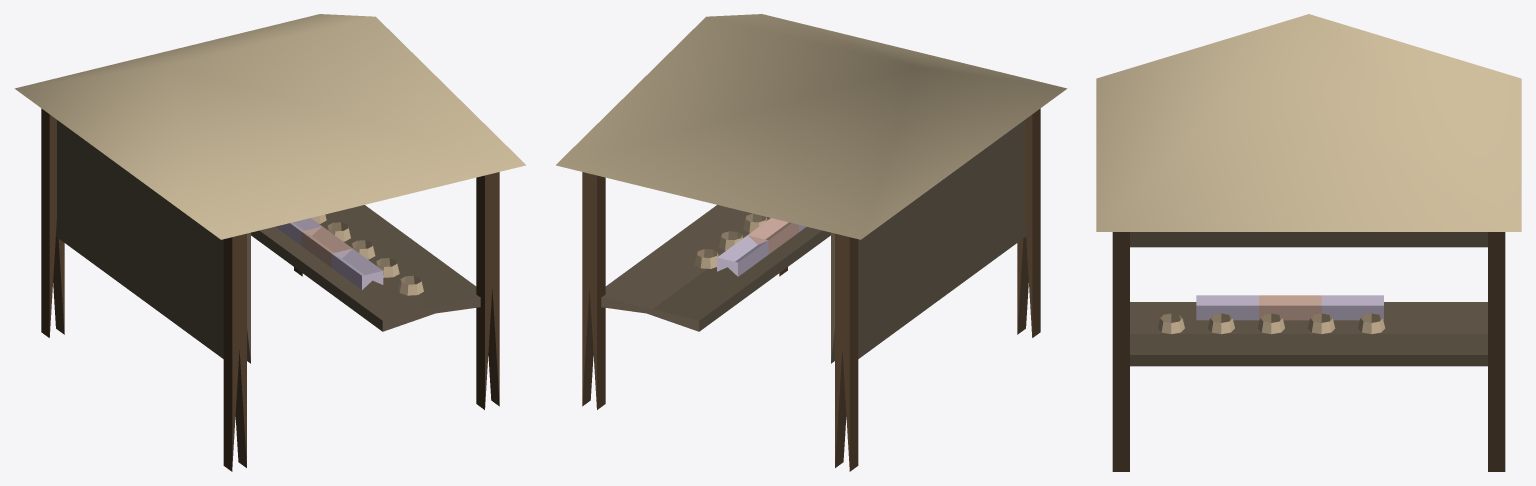
The model's file is fv_market_stall_a.glb.
3 views of the same model, side by side, from view 1: azimuth 30°, elevation 25°; view 2: azimuth 150°, elevation 25°; view 3: azimuth 270°, elevation 25° (orthographic). The views are drawn at different scales.
Parts seen in each view (by area): view 1: fv_market_stall_a_canopy.001, fv_market_stall_a_backwall.001, fv_market_stall_a_table.001, fv_market_stall_a_post-1.51.001, fv_market_stall_a_post-1.5-1.001, fv_market_stall_a_post1.51.001, fv_market_stall_a_cloth0.001, fv_market_stall_a_cloth1.001, fv_market_stall_a_cloth2.001; view 2: fv_market_stall_a_canopy.001, fv_market_stall_a_backwall.001, fv_market_stall_a_table.001, fv_market_stall_a_post1.51.001, fv_market_stall_a_post1.5-1.001, fv_market_stall_a_post-1.51.001, fv_market_stall_a_cloth2.001, fv_market_stall_a_cloth1.001; view 3: fv_market_stall_a_canopy.001, fv_market_stall_a_table.001, fv_market_stall_a_backwall.001, fv_market_stall_a_post1.5-1.001, fv_market_stall_a_post-1.5-1.001, fv_market_stall_a_cloth0.001, fv_market_stall_a_cloth1.001, fv_market_stall_a_cloth2.001, fv_market_stall_a_bread3.001, fv_market_stall_a_bread0.001, fv_market_stall_a_bread1.001, fv_market_stall_a_bread2.001 (+1 smaller).
Boxes of the visible parts, left/top/right/bottom form: fv_market_stall_a_canopy.001: left=14, top=14, right=525, bottom=239; fv_market_stall_a_backwall.001: left=56, top=120, right=250, bottom=363; fv_market_stall_a_table.001: left=251, top=205, right=480, bottom=331; fv_market_stall_a_post-1.51.001: left=223, top=233, right=246, bottom=471; fv_market_stall_a_post-1.5-1.001: left=476, top=172, right=499, bottom=409; fv_market_stall_a_post1.51.001: left=41, top=108, right=64, bottom=337; fv_market_stall_a_cloth0.001: left=331, top=248, right=383, bottom=289; fv_market_stall_a_cloth1.001: left=301, top=226, right=352, bottom=267; fv_market_stall_a_cloth2.001: left=275, top=218, right=321, bottom=245; fv_market_stall_a_canopy.001: left=556, top=14, right=1067, bottom=239; fv_market_stall_a_backwall.001: left=831, top=120, right=1025, bottom=363; fv_market_stall_a_table.001: left=601, top=205, right=830, bottom=331; fv_market_stall_a_post1.51.001: left=835, top=233, right=858, bottom=471; fv_market_stall_a_post1.5-1.001: left=582, top=172, right=605, bottom=409; fv_market_stall_a_post-1.51.001: left=1017, top=108, right=1040, bottom=337; fv_market_stall_a_cloth2.001: left=717, top=235, right=768, bottom=276; fv_market_stall_a_cloth1.001: left=747, top=218, right=798, bottom=253; fv_market_stall_a_canopy.001: left=1096, top=14, right=1521, bottom=231; fv_market_stall_a_table.001: left=1130, top=302, right=1487, bottom=366; fv_market_stall_a_backwall.001: left=1130, top=232, right=1487, bottom=247; fv_market_stall_a_post1.5-1.001: left=1488, top=232, right=1505, bottom=471; fv_market_stall_a_post-1.5-1.001: left=1112, top=232, right=1129, bottom=471; fv_market_stall_a_cloth0.001: left=1196, top=295, right=1258, bottom=320; fv_market_stall_a_cloth1.001: left=1259, top=295, right=1321, bottom=320; fv_market_stall_a_cloth2.001: left=1321, top=295, right=1383, bottom=320; fv_market_stall_a_bread3.001: left=1307, top=313, right=1335, bottom=334; fv_market_stall_a_bread0.001: left=1157, top=313, right=1184, bottom=334; fv_market_stall_a_bread1.001: left=1207, top=313, right=1234, bottom=334; fv_market_stall_a_bread2.001: left=1257, top=313, right=1284, bottom=334.
Bounding box in the file's own units: 2.9 × 2.98 × 3.4.
